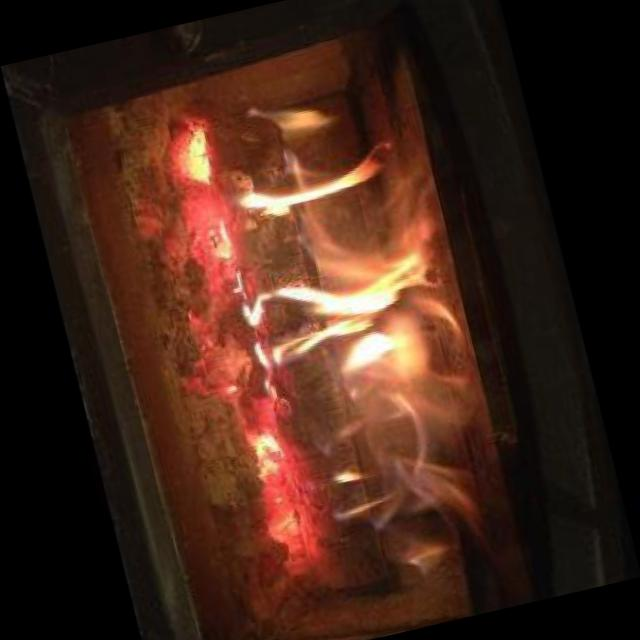Fire: (127, 61, 523, 604)
